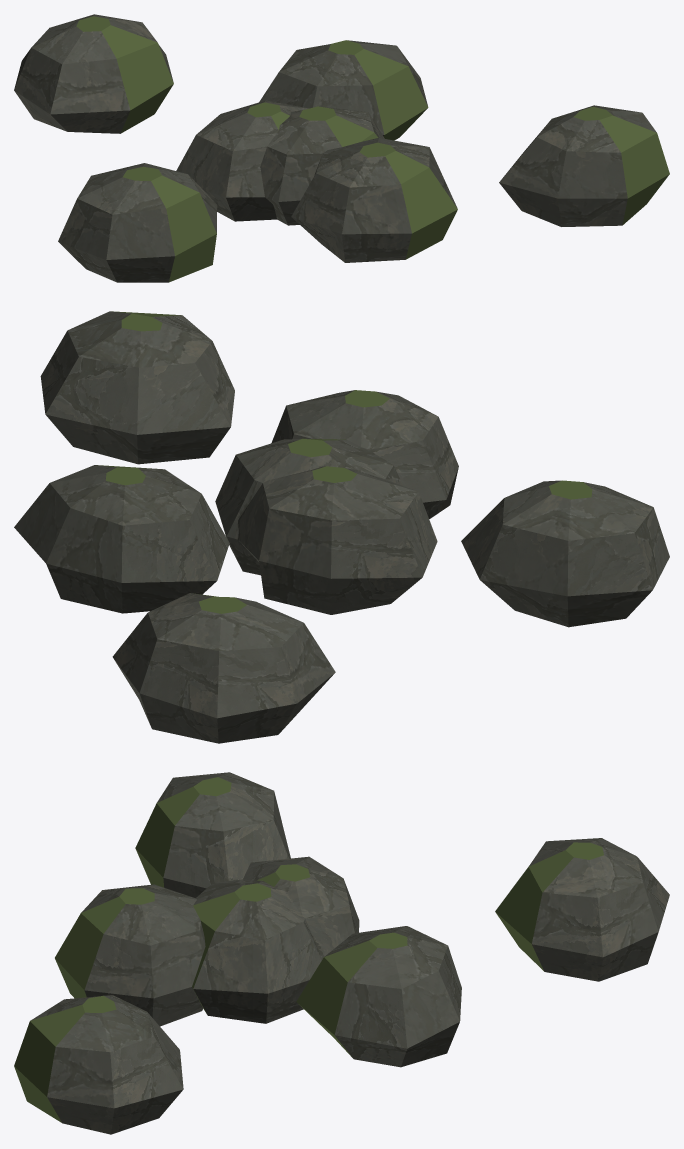
3 renders of one model, top to bottom at view 1: azimuth 30°, elevation 25°; view 2: azimuth 150°, elevation 25°; view 3: azimuth 270°, elevation 25°, orthographic. The views are drawn at different scales.
Visible parts, largest first — view 1: Weathered faceted boulder; view 2: Weathered faceted boulder; view 3: Weathered faceted boulder.
Boxes of the visible parts, x1,y1,x2,y2 form: Weathered faceted boulder: (14, 14, 669, 282); Weathered faceted boulder: (14, 311, 669, 743); Weathered faceted boulder: (14, 772, 669, 1134).
Bounding box in the file's own units: 2.47 × 0.375 × 2.28.
2 materials, 1 textured.
